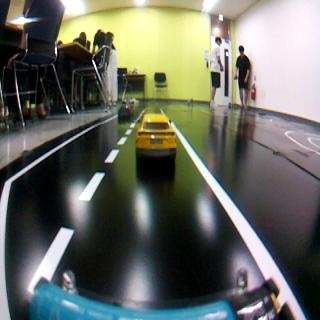car: (136, 114, 181, 160)
